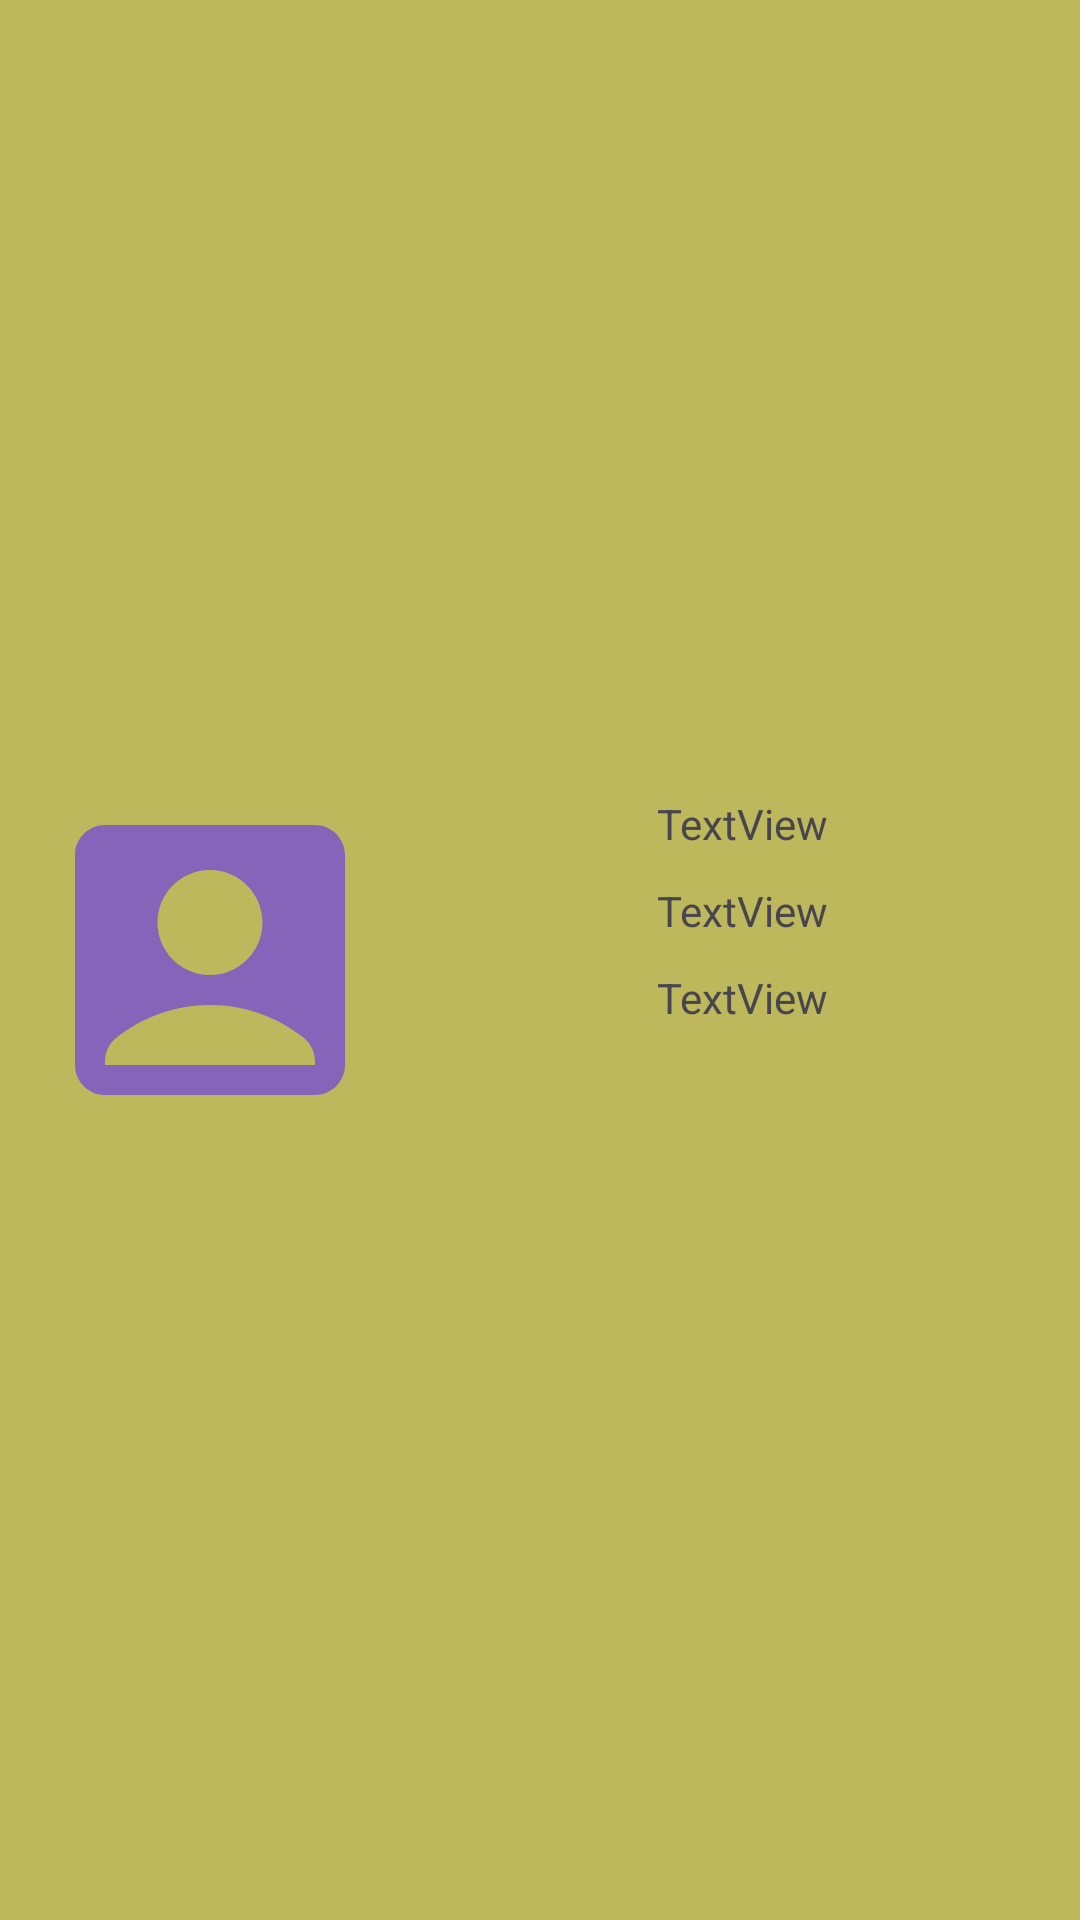

Icons on this 1080px x 1920px Android screen, each with its box as (x1, y1, x2, y2):
signup account box: (75, 825, 345, 1095)
